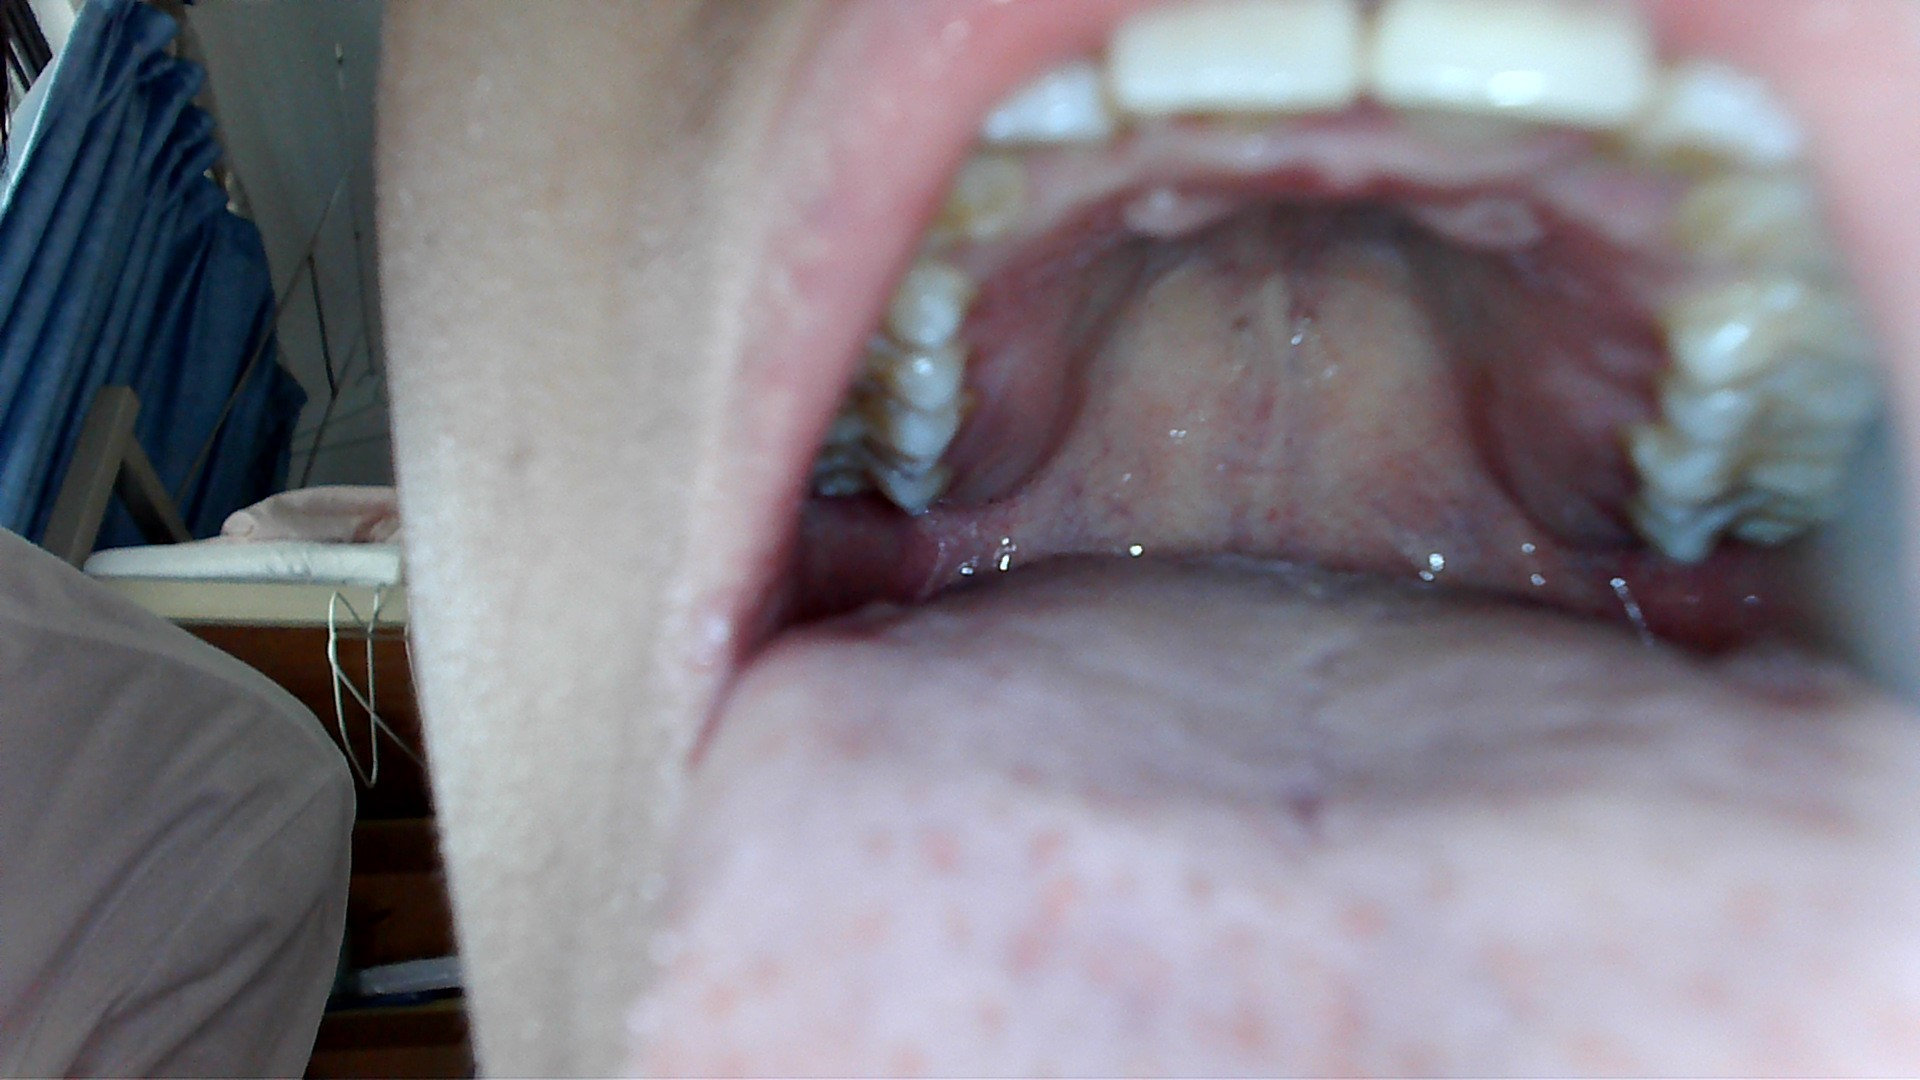throat: (1335, 500, 1526, 616)
